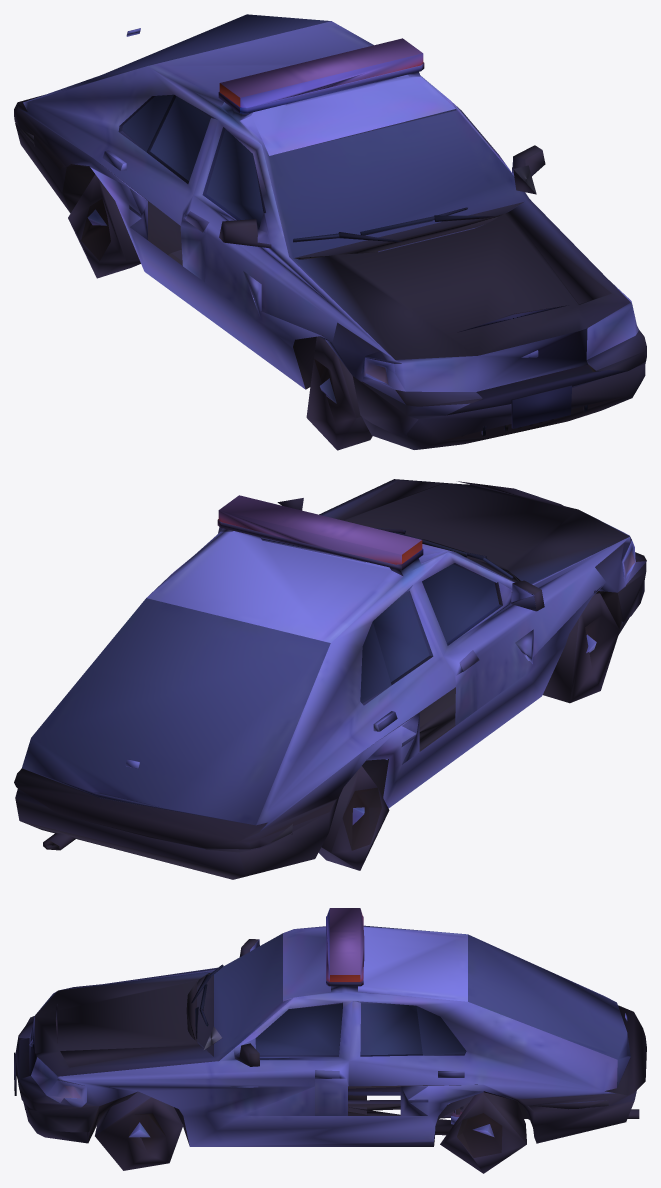
File: model.progressive.glb
3 renders of one model, top to bottom at view 1: azimuth 30°, elevation 25°; view 2: azimuth 150°, elevation 25°; view 3: azimuth 270°, elevation 25°, orthographic. The views are drawn at different scales.
Parts seen in each view (by area): view 1: material; view 2: material; view 3: material.
Part boxes in pixels (bbox=[...]): material: bbox=[14, 14, 646, 450]; material: bbox=[14, 479, 646, 879]; material: bbox=[14, 908, 646, 1173].
Size of the model in its own units: 0.8339 by 0.6093 by 1.9.
1 material, 1 textured.
